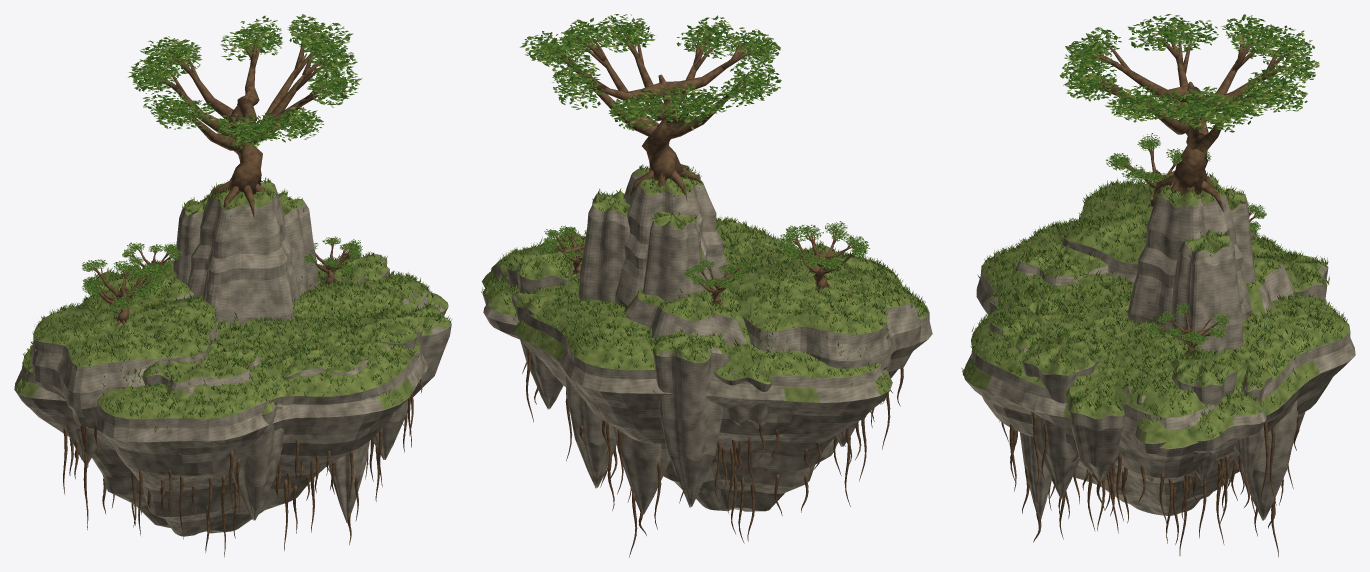
Rendered from garden.glb.
The picture shows the model from 3 angles, left to right: view 1: azimuth 30°, elevation 25°; view 2: azimuth 150°, elevation 25°; view 3: azimuth 270°, elevation 25°; orthographic projection. The views are drawn at different scales.
Visible parts, largest first — view 1: ISL_rock, ISL_grass, ISL_leaves, ISL_wood; view 2: ISL_rock, ISL_grass, ISL_leaves, ISL_wood; view 3: ISL_rock, ISL_grass, ISL_leaves, ISL_wood.
Boxes of the visible parts, x1,y1,x2,y2 form: ISL_rock: [14, 181, 451, 536]; ISL_grass: [15, 177, 451, 432]; ISL_leaves: [82, 14, 362, 310]; ISL_wood: [63, 28, 422, 557]; ISL_rock: [482, 168, 932, 514]; ISL_grass: [481, 164, 928, 392]; ISL_leaves: [520, 14, 869, 288]; ISL_wood: [522, 31, 903, 557]; ISL_rock: [963, 176, 1355, 520]; ISL_grass: [961, 172, 1347, 438]; ISL_leaves: [1059, 14, 1319, 346]; ISL_wood: [999, 33, 1300, 557].
Size of the model in its own units: 18.37 by 20.18 by 14.06.
Materials: 3 (2 with a texture image).
